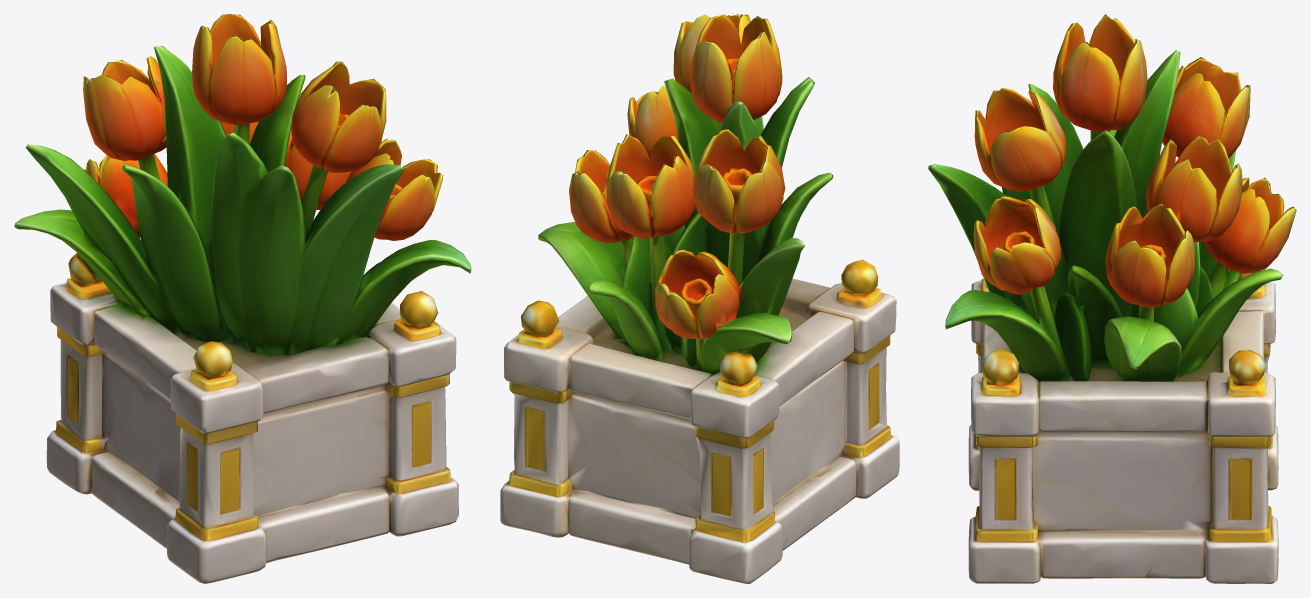
The model's file is HaloFlowerPotHQ_Tulip_HD_src.glb.
3 renders of one model, left to right at view 1: azimuth 30°, elevation 25°; view 2: azimuth 150°, elevation 25°; view 3: azimuth 270°, elevation 25°, orthographic. The views are drawn at different scales.
Visible parts, largest first — view 1: tripo_node_f9b5e19e-e375-41ed-ba51-7f1a071a56af; view 2: tripo_node_f9b5e19e-e375-41ed-ba51-7f1a071a56af; view 3: tripo_node_f9b5e19e-e375-41ed-ba51-7f1a071a56af.
Boxes of the visible parts, <box> form: tripo_node_f9b5e19e-e375-41ed-ba51-7f1a071a56af: <box>14,14,471,583</box>; tripo_node_f9b5e19e-e375-41ed-ba51-7f1a071a56af: <box>500,14,899,583</box>; tripo_node_f9b5e19e-e375-41ed-ba51-7f1a071a56af: <box>928,14,1296,583</box>.
Size of the model in its own units: 0.687 by 0.9819 by 0.6804.
Materials: 1 (1 with a texture image).
